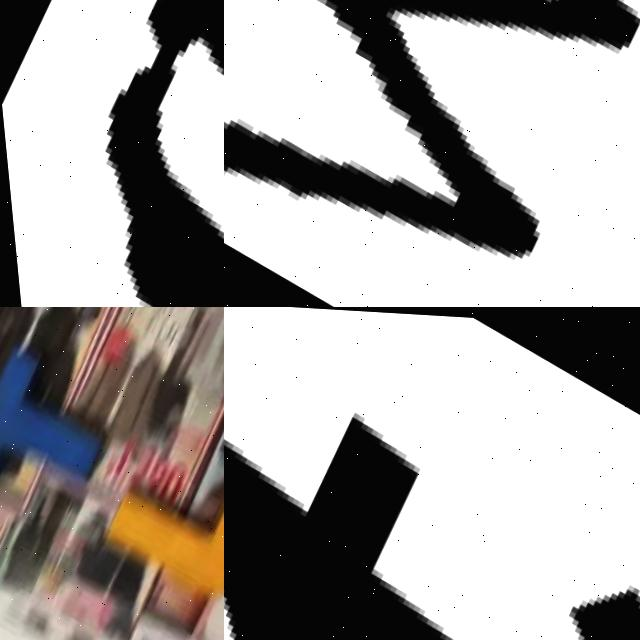A: (0, 0, 224, 307)
L: (84, 395, 224, 601)
T: (224, 323, 640, 640), (0, 327, 134, 533)
W: (224, 0, 640, 307)
